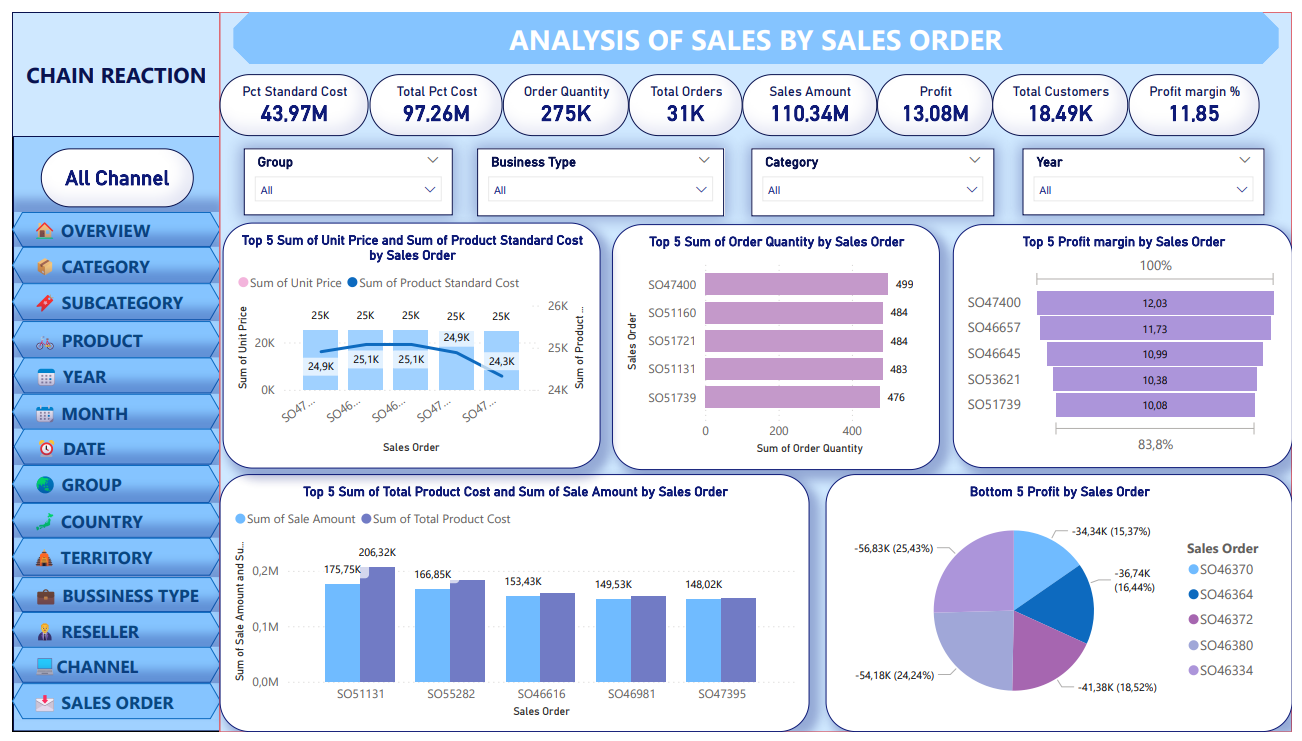

What the dashboard file says about the page in this screenshot:
{"tool":"powerbi","page":{"name":"Sales order","canvas":[1280,720],"ordinal":13},"visuals":[{"type":"shape","box":[0,0,209.9,720.4],"z":0},{"type":"shape","box":[0,199.4,208.6,35],"z":1000},{"type":"shape","box":[0,234.3,209,37],"z":2000},{"type":"shape","box":[0,271.3,209,37],"z":3000},{"type":"shape","box":[0,308.3,209,37],"z":4000},{"type":"shape","box":[1,345.3,208,36],"z":5000},{"type":"shape","box":[0,381.3,209,36],"z":6000},{"type":"shape","box":[1,417.3,208,36],"z":7000},{"type":"shape","box":[0,453.3,208,38],"z":8000},{"type":"shape","box":[0,491.3,209,35],"z":9000},{"type":"shape","box":[0,526.3,209,38],"z":10000},{"type":"shape","box":[0,564.3,209,35],"z":11000},{"type":"shape","box":[0,599.3,209,36],"z":12000},{"type":"shape","box":[0,635.3,209,36],"z":13000},{"type":"shape","box":[0,671.3,209,36],"z":14000},{"type":"shape","title":"dbdbdjb","box":[235.7,0,1044.3,52.1],"z":15000},{"type":"shape","box":[0.4,0,209.1,124.7],"z":16000},{"type":"shape","box":[207.6,0,1072.4,720.2],"z":17000},{"type":"card","title":"Order Quantity","fields":{"Values":["Sum(Sales.Order Quantity)"]},"box":[490.4,62.4,126,62.4],"z":18000},{"type":"card","title":"Pct Standard Cost","fields":{"Values":["Sum(Sales.Product Standard Cost)"]},"box":[207.9,62.4,149.2,62.4],"z":19000},{"type":"card","title":"Sales Amount","fields":{"Values":["Sum(Sales.Sale Amount)"]},"box":[730,62.4,134.5,62.4],"z":20000},{"type":"card","title":"Profit","fields":{"Values":["Sales.Profit"]},"box":[864.5,62.4,116.2,62.4],"z":21000},{"type":"card","title":"Total Pct Cost","fields":{"Values":["Sum(Sales.Total Product Cost)"]},"box":[357.1,62.4,133.3,62.4],"z":22000},{"type":"card","title":"Total Orders","fields":{"Values":["Sales.Total sale orders"]},"box":[616.3,62.4,113.7,62.4],"z":23000},{"type":"card","title":"Total Customers","fields":{"Values":["Count(Customer.Customer ID)"]},"box":[980.7,62.4,135.7,62.4],"z":24000},{"type":"card","title":"Profit margin %","fields":{"Values":["Sales.Profit margin"]},"box":[1116.4,62.4,130.8,62.4],"z":25000},{"type":"slicer","title":"Date","fields":{"Values":["Date.Year"]},"box":[1010.1,135.9,242,66.8],"z":26000},{"type":"slicer","title":"Category","fields":{"Values":["Category.Category"]},"box":[739.5,135.9,243.2,67.9],"z":27000},{"type":"slicer","title":"Channel","fields":{"Values":["Business Type.Business Type"]},"box":[465.3,137.1,246.7,67.9],"z":28000},{"type":"slicer","title":"Group","fields":{"Values":["Group.Group"]},"box":[231.7,137.1,208.6,66.8],"z":29000},{"type":"shape","title":"dbdbdjb","box":[220.9,0,1045.6,52.1],"z":30000},{"type":"clusteredBarChart","title":"Top 5 Sum of Order Quantity by Sales Order","fields":{"Category":["SalesOrder.Sales Order"],"Y":["Sum(Sales.Order Quantity)"]},"box":[600.4,212.2,327.8,245.6],"z":31000},{"type":"lineClusteredColumnComboChart","title":"Top 5 Sum of Total Product Cost and Sum of Sale Amount by Sales Order","fields":{"Category":["SalesOrder.Sales Order"],"Y":["Sum(Sales.Sale Amount)","Sum(Sales.Total Product Cost)"]},"box":[207.6,462,590.1,258],"z":32000},{"type":"lineClusteredColumnComboChart","title":"Top 5 Sum of Unit Price and Sum of Product Standard Cost by Sales Order","fields":{"Category":["SalesOrder.Sales Order"],"Y":["Sum(Sales.Unit Price)"],"Y2":["Sum(Sales.Product Standard Cost)"]},"box":[210.4,211.1,377.8,245.6],"z":33000},{"type":"funnel","title":"Top 5 Profit margin by Sales Order","fields":{"Category":["SalesOrder.Sales Order"],"Y":["Sales.Profit margin"]},"box":[940.1,212.7,340.3,244.3],"z":34000},{"type":"pieChart","title":"Bottom 5 Profit by Sales Order","fields":{"Category":["SalesOrder.Sales Order"],"Y":["Sales.Profit"]},"box":[813.9,462,466.6,258],"z":35000},{"type":"card","fields":{"Values":["Channel.SChannel"]},"box":[28.1,135.7,152.9,58.7],"z":36000}]}

Visuals, with their boxes in screenshot pixels (x1, y1, x2, y2), scaled from the page's 1280x720 canvas onto the 1302x741 screenshot:
shape: locate(0, 0, 214, 740)
shape: locate(0, 205, 212, 241)
shape: locate(0, 241, 213, 279)
shape: locate(0, 279, 213, 317)
shape: locate(0, 317, 213, 355)
shape: locate(1, 355, 213, 392)
shape: locate(0, 392, 213, 429)
shape: locate(1, 429, 213, 467)
shape: locate(0, 467, 212, 506)
shape: locate(0, 506, 213, 542)
shape: locate(0, 542, 213, 581)
shape: locate(0, 581, 213, 617)
shape: locate(0, 617, 213, 654)
shape: locate(0, 654, 213, 691)
shape: locate(0, 691, 213, 728)
"dbdbdjb" shape: locate(240, 0, 1301, 54)
shape: locate(0, 0, 213, 128)
shape: locate(211, 0, 1301, 740)
"Order Quantity" card: locate(499, 64, 627, 128)
"Pct Standard Cost" card: locate(211, 64, 363, 128)
"Sales Amount" card: locate(743, 64, 879, 128)
"Profit" card: locate(879, 64, 998, 128)
"Total Pct Cost" card: locate(363, 64, 499, 128)
"Total Orders" card: locate(627, 64, 743, 128)
"Total Customers" card: locate(998, 64, 1136, 128)
"Profit margin %" card: locate(1136, 64, 1269, 128)
"Date" slicer: locate(1027, 140, 1274, 209)
"Category" slicer: locate(752, 140, 1000, 210)
"Channel" slicer: locate(473, 141, 724, 211)
"Group" slicer: locate(236, 141, 448, 210)
"dbdbdjb" shape: locate(225, 0, 1288, 54)
"Top 5 Sum of Order Quantity by Sales Order" clusteredBarChart: locate(611, 218, 944, 471)
"Top 5 Sum of Total Product Cost and Sum of Sale Amount by Sales Order" lineClusteredColumnComboChart: locate(211, 475, 811, 740)
"Top 5 Sum of Unit Price and Sum of Product Standard Cost by Sales Order" lineClusteredColumnComboChart: locate(214, 217, 598, 470)
"Top 5 Profit margin by Sales Order" funnel: locate(956, 219, 1301, 470)
"Bottom 5 Profit by Sales Order" pieChart: locate(828, 475, 1301, 740)
card - Channel.SChannel: locate(29, 140, 184, 200)
